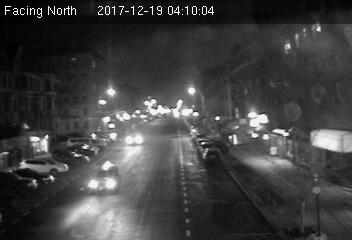car: (85, 160, 121, 196), (127, 130, 147, 148), (204, 148, 222, 165)
